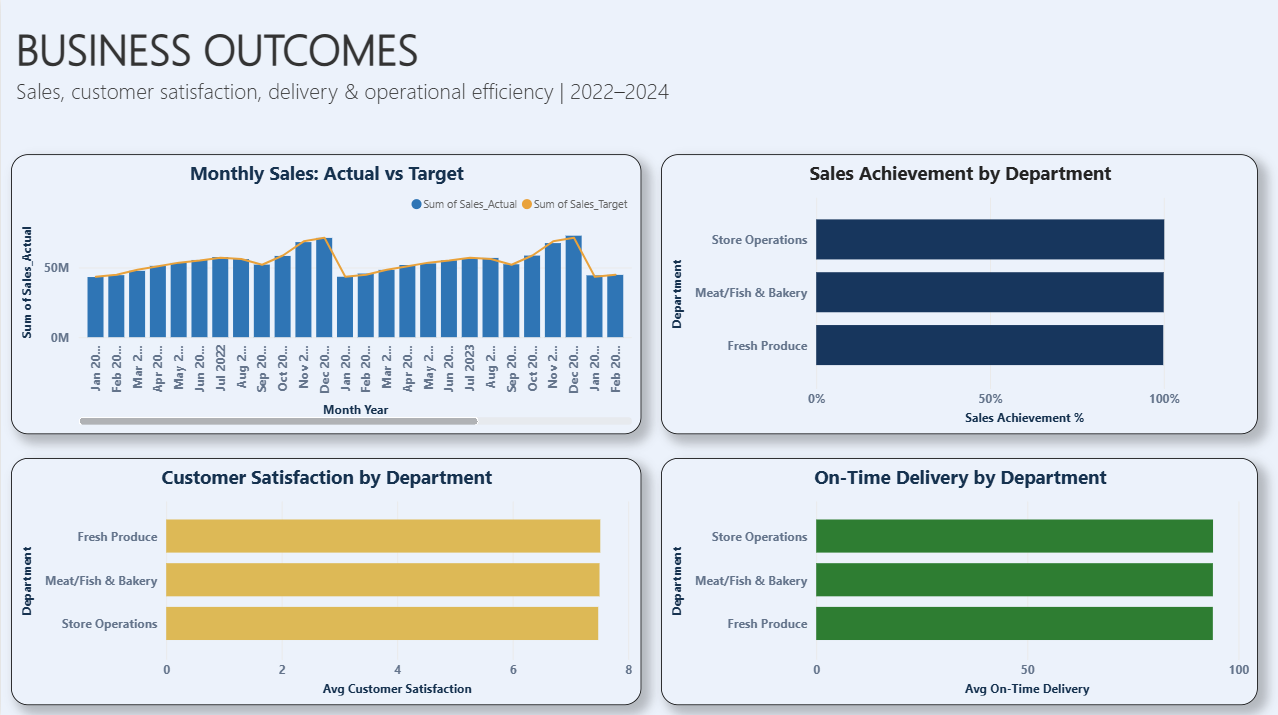

The page's visual inventory and layout, read from the dashboard file:
{"tool":"powerbi","page":{"name":"BUSINESS OUTCOMES","canvas":[1280,720],"ordinal":3},"visuals":[{"type":"textbox","box":[10,16.7,1270,120],"z":0},{"type":"lineClusteredColumnComboChart","title":"Monthly Sales: Actual vs Target","fields":{"Category":["business_outcomes_clean.Month Year"],"Y":["Sum(business_outcomes_clean.Sales_Actual)"],"Y2":["Sum(business_outcomes_clean.Sales_Target)"]},"box":[10,210,635,275],"z":1000},{"type":"clusteredBarChart","title":"Sales Achievement by Department","fields":{"Category":["business_outcomes_clean.Department"],"Y":["business_outcomes_clean.Sales Achievement %"]},"box":[645,248.3,635,236.7],"z":1001},{"type":"clusteredBarChart","title":"Customer Satisfaction by Department","fields":{"Category":["business_outcomes_clean.Department"],"Y":["business_outcomes_clean.Avg Customer Satisfaction"]},"box":[10,495,635,225],"z":1002},{"type":"clusteredBarChart","title":"On-Time Delivery by Department","fields":{"Category":["business_outcomes_clean.Department"],"Y":["business_outcomes_clean.Avg On-Time Delivery"]},"box":[645,495,635,225],"z":1003}]}

Visuals, with their boxes in screenshot pixels (x1, y1, x2, y2), scaled from the page's 1280x720 canvas onto the 1278x715 screenshot:
textbox: left=10, top=17, right=1277, bottom=136
"Monthly Sales: Actual vs Target" lineClusteredColumnComboChart: left=10, top=209, right=644, bottom=482
"Sales Achievement by Department" clusteredBarChart: left=644, top=247, right=1277, bottom=482
"Customer Satisfaction by Department" clusteredBarChart: left=10, top=492, right=644, bottom=714
"On-Time Delivery by Department" clusteredBarChart: left=644, top=492, right=1277, bottom=714
